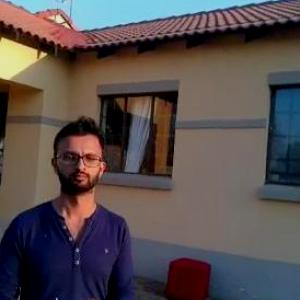follow: (0, 109, 139, 299)
null: (236, 283, 299, 299)
